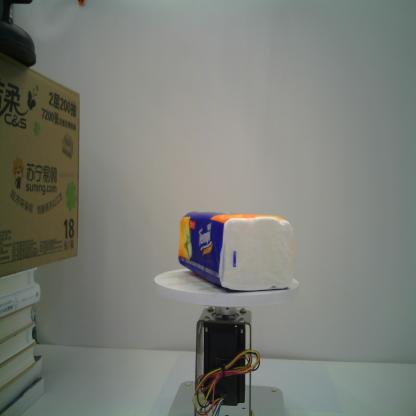Tissue: (177, 206, 295, 292)
